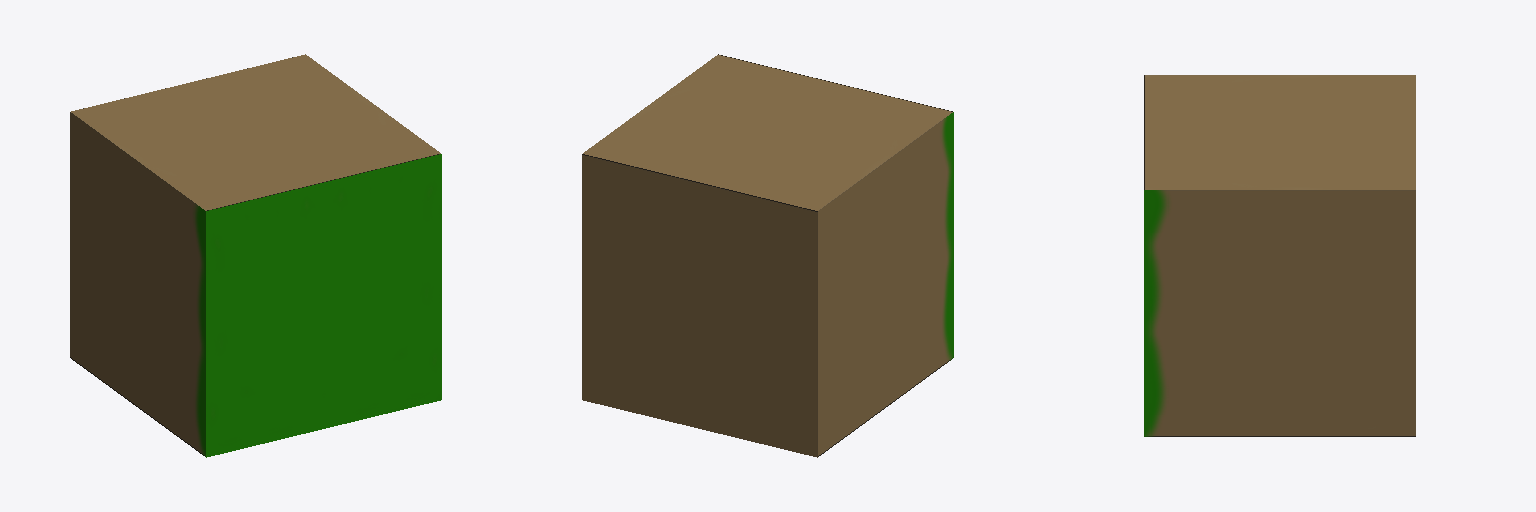
3 views of the same model, side by side, from view 1: azimuth 30°, elevation 25°; view 2: azimuth 150°, elevation 25°; view 3: azimuth 270°, elevation 25° (orthographic).
Parts seen in each view (by area): view 1: Cube; view 2: Cube; view 3: Cube.
Part boxes in pixels (bbox=[...]): Cube: bbox=[70, 54, 441, 457]; Cube: bbox=[582, 54, 953, 457]; Cube: bbox=[1144, 75, 1415, 436].
Size of the model in its own units: 2 by 2 by 2.
Materials: 1 (1 with a texture image).